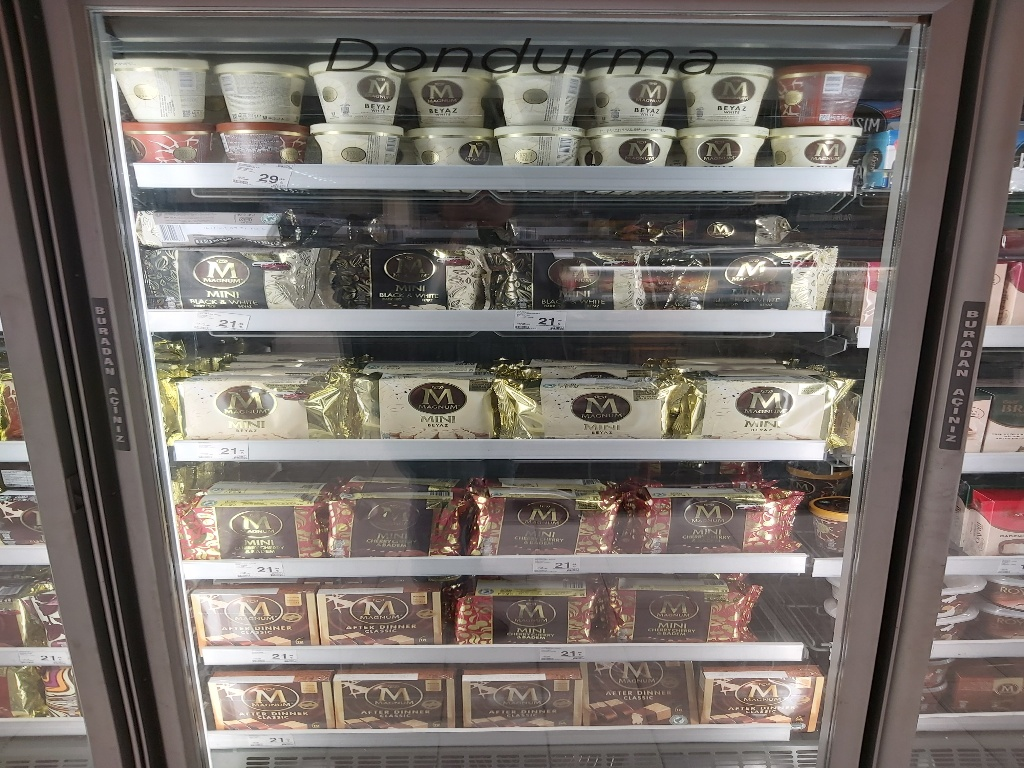urun: (146, 236, 379, 314), (612, 239, 845, 317), (344, 364, 524, 447), (504, 360, 684, 443), (161, 360, 340, 443), (673, 362, 852, 445), (645, 477, 812, 562), (594, 572, 764, 643), (180, 486, 328, 562), (321, 479, 468, 554), (471, 483, 618, 558), (449, 580, 603, 650), (188, 577, 319, 652), (690, 660, 824, 733), (315, 579, 445, 653), (383, 243, 530, 308), (452, 662, 593, 727), (205, 40, 310, 127), (586, 657, 703, 731), (200, 673, 337, 728), (328, 668, 465, 723), (300, 47, 398, 118), (771, 52, 869, 123), (396, 49, 494, 119), (488, 45, 586, 115), (580, 49, 678, 119), (675, 49, 773, 119), (115, 113, 219, 164), (206, 119, 310, 170), (310, 118, 413, 169), (402, 118, 497, 168), (582, 123, 677, 173), (676, 125, 771, 175), (488, 119, 582, 169), (767, 124, 861, 174)
urun2: (110, 40, 215, 127)
